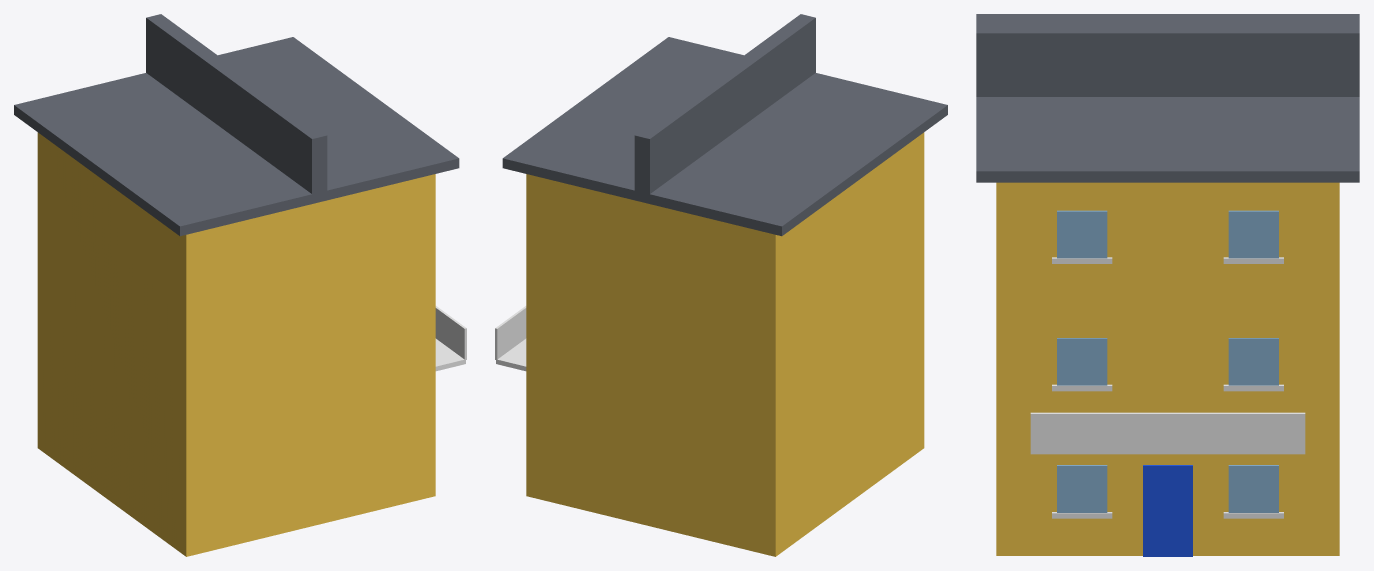
Rendered from casa_playa_0.obj.
3 renders of one model, left to right at view 1: azimuth 30°, elevation 25°; view 2: azimuth 150°, elevation 25°; view 3: azimuth 270°, elevation 25°, orthographic. The views are drawn at different scales.
Parts seen in each view (by area): view 1: casa_playa_0; view 2: casa_playa_0; view 3: casa_playa_0.
Part boxes in pixels (x1=…): casa_playa_0: x1=14, y1=14, x2=466, y2=556; casa_playa_0: x1=495, y1=14, x2=947, y2=556; casa_playa_0: x1=976, y1=14, x2=1359, y2=556.
Bounding box in the file's own units: 8.25 × 10.05 × 7.64.
